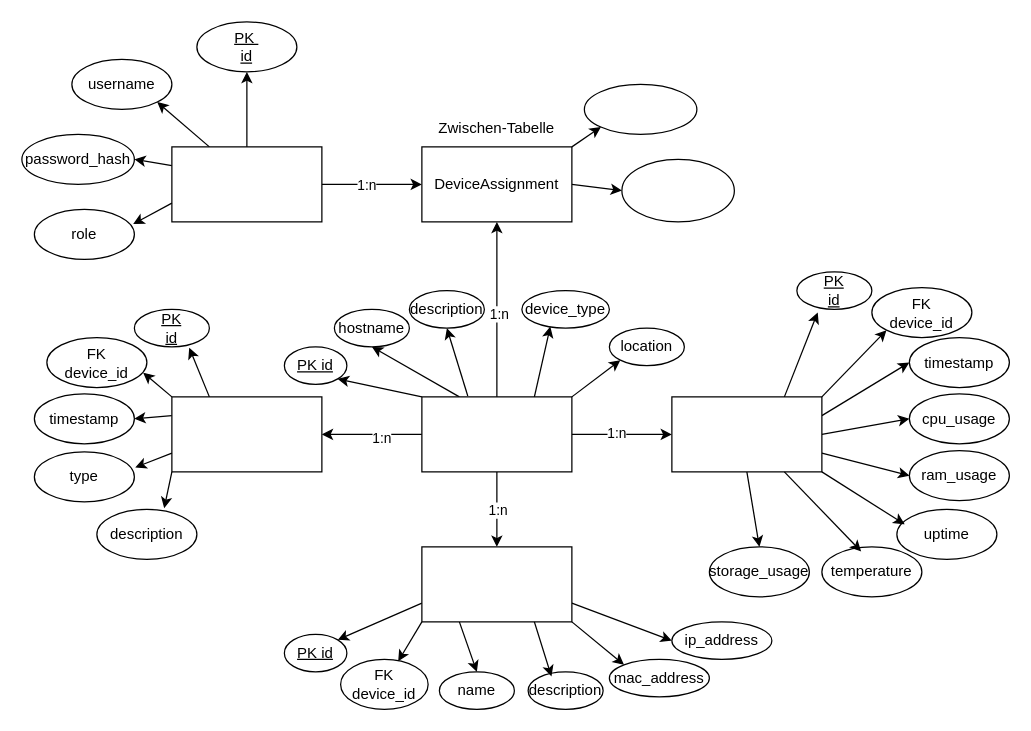
Image size: 1031x731. Some labels were removed from this diagram. The shapes that lost their labels are listed below. From the top down, each one's centre as x and y in pixels, then its label:
the point at 640,108: PK /FK user_id
the point at 246,184: User
the point at 677,190: PK / FK device_id
the point at 246,434: Event
the point at 496,434: Device
the point at 746,434: Metric
the point at 496,584: Interface
